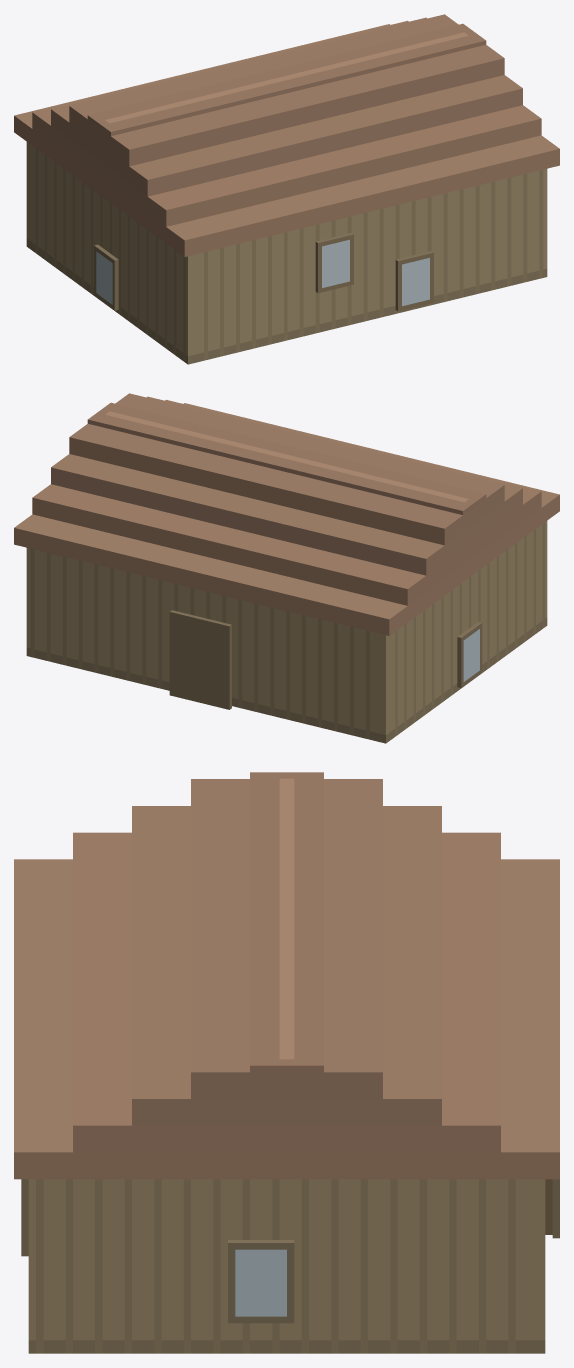
File: molino_viento_03.glb
3 renders of one model, top to bottom at view 1: azimuth 30°, elevation 25°; view 2: azimuth 150°, elevation 25°; view 3: azimuth 270°, elevation 25°, orthographic. The views are drawn at different scales.
Parts seen in each view (by area): view 1: molino_viento_03; view 2: molino_viento_03; view 3: molino_viento_03.
Boxes of the visible parts, left/top/right/bottom form: molino_viento_03: left=14, top=14, right=559, bottom=364; molino_viento_03: left=14, top=393, right=559, bottom=743; molino_viento_03: left=14, top=772, right=559, bottom=1353.
Size of the model in its own units: 9.4 by 4.4 by 7.4.
